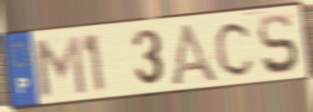1: (80, 31, 108, 96)
3: (130, 27, 165, 88)
A: (167, 20, 222, 86)
C: (212, 19, 257, 79)
M: (30, 33, 89, 100)
S: (255, 11, 301, 77)
